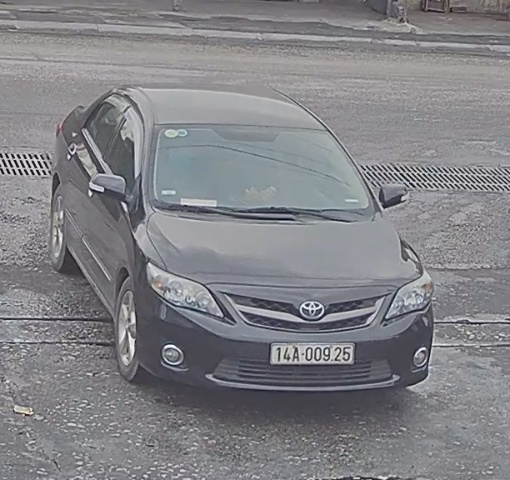vehicle plate: (264, 338, 357, 367)
